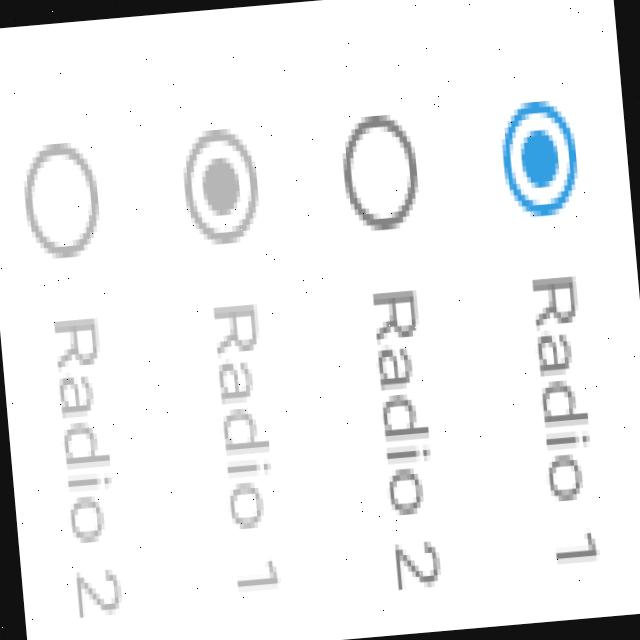VRadio: (492, 90, 619, 570), (18, 135, 138, 627), (338, 104, 456, 598), (175, 120, 296, 597)
